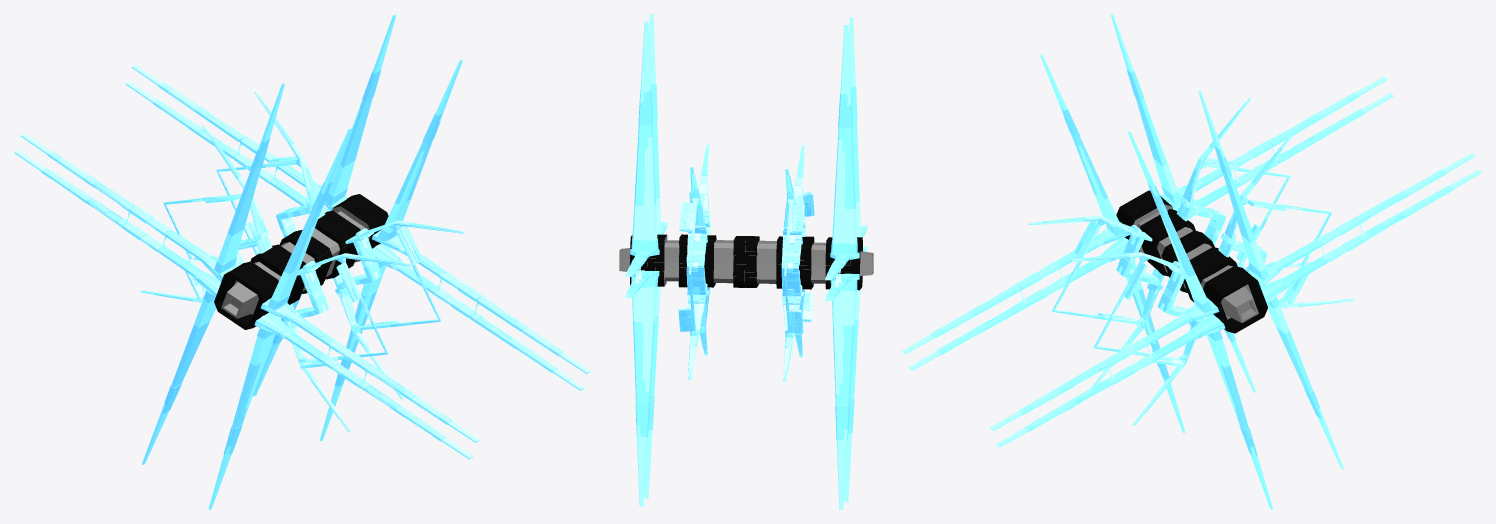
File: station_lowpoly.glb
The picture shows the model from 3 angles, left to right: view 1: azimuth 30°, elevation 25°; view 2: azimuth 150°, elevation 25°; view 3: azimuth 270°, elevation 25°; orthographic projection.
Visible parts, largest first — view 1: Droid_1_wings_pannels; view 2: Droid_1_wings_pannels; view 3: Droid_1_wings_pannels.
Part boxes in pixels (x1,y1,x2,y2): Droid_1_wings_pannels: [14, 14, 590, 509]; Droid_1_wings_pannels: [619, 14, 873, 509]; Droid_1_wings_pannels: [902, 14, 1481, 509].
Bounding box in the file's own units: 45.36 × 51.76 × 62.15.
